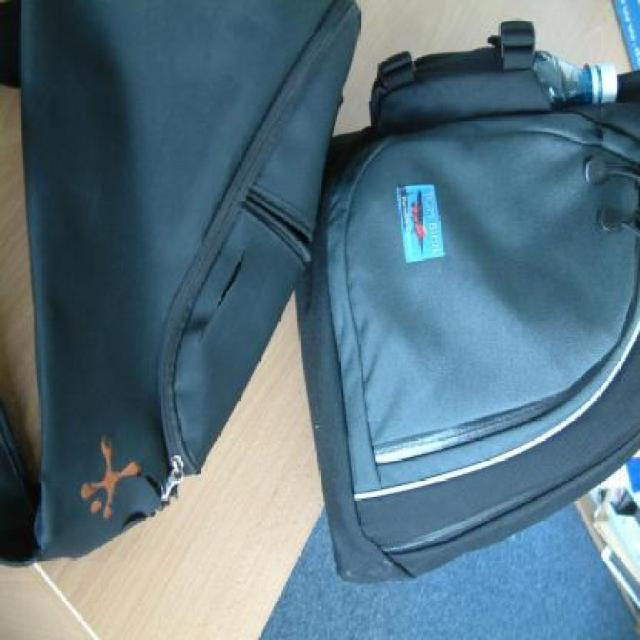backpack: (294, 15, 640, 592)
